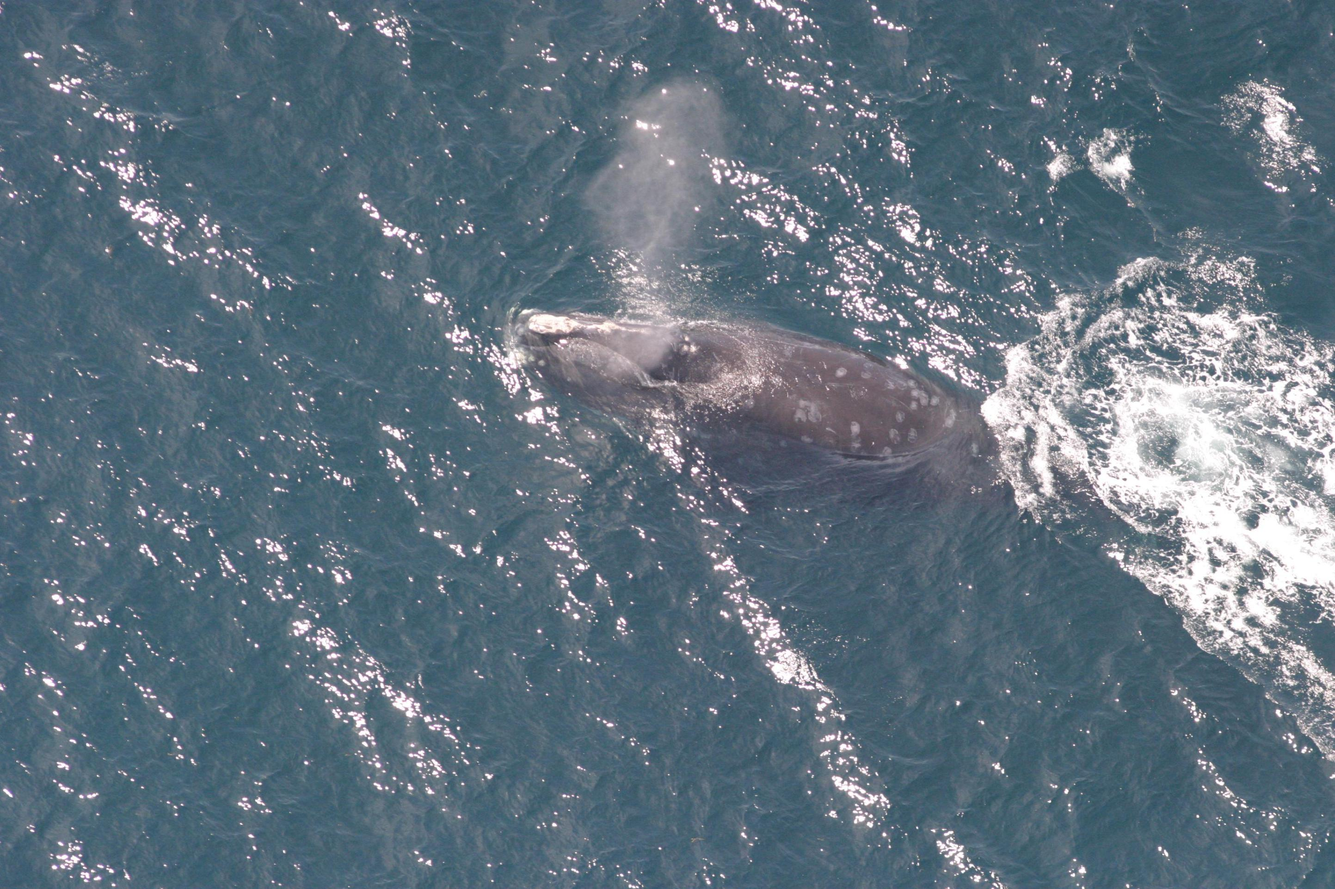whale: (500, 294, 1089, 474)
